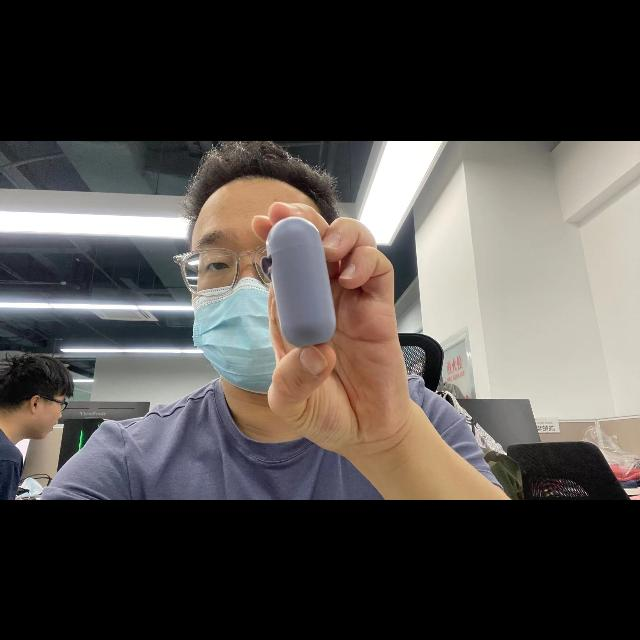airpods: (259, 218, 337, 347)
